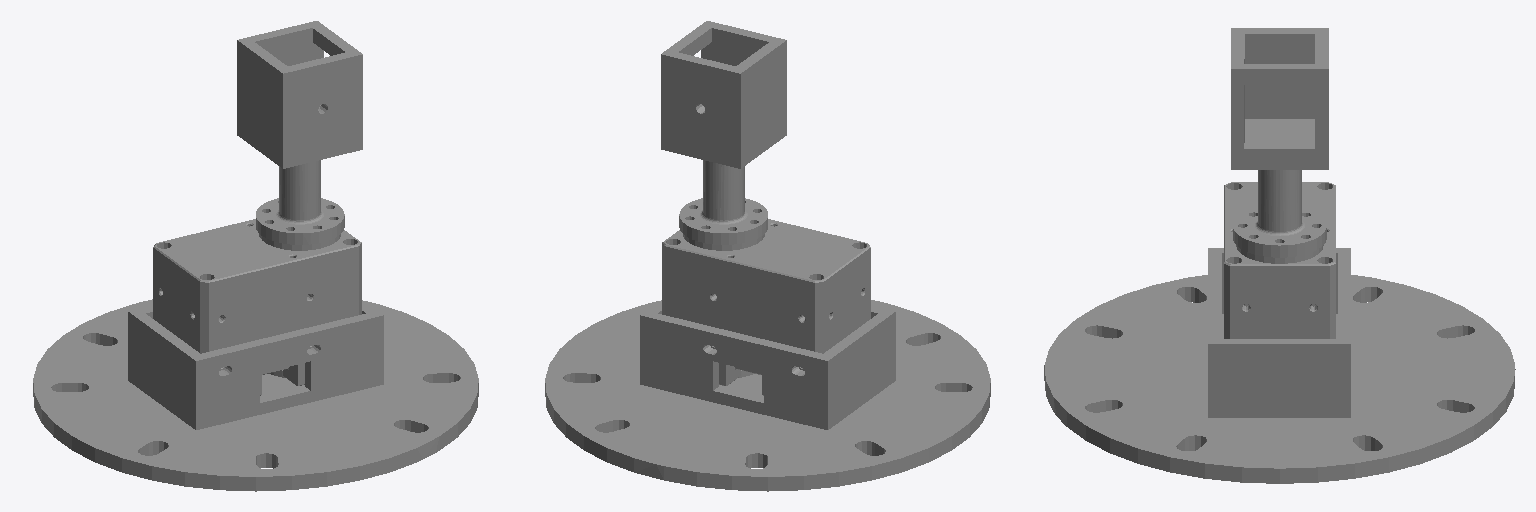
URDF robot description (540_base):
<?xml version="1.0" encoding="utf-8"?>
<!-- This URDF was automatically created by SolidWorks to URDF Exporter! Originally created by [author] ([email redacted]) 
     Commit Version: 1.6.0-4-g7f85cfe  Build Version: 1.6.7995.38578
     For more information, please see http://wiki.ros.org/sw_urdf_exporter -->
<robot
  name="540_base">
  <link
    name="base_link">
    <inertial>
      <origin
        xyz="0.000309866219877738 -1.42727209052575E-10 0.017628309391527"
        rpy="0 0 0" />
      <mass
        value="0.182418164745937" />
      <inertia
        ixx="0.000120490016488346"
        ixy="-5.92636030410217E-14"
        ixz="-1.49319277186411E-07"
        iyy="0.000145009530309103"
        iyz="-4.24186454602543E-13"
        izz="0.000228954451007768" />
    </inertial>
    <visual>
      <origin
        xyz="0 0 0"
        rpy="0 0 0" />
      <geometry>
        <mesh
          filename="package://540_base/meshes/base_link.STL" />
      </geometry>
      <material
        name="">
        <color
          rgba="0.627450980392157 0.627450980392157 0.627450980392157 1" />
      </material>
    </visual>
    <collision>
      <origin
        xyz="0 0 0"
        rpy="0 0 0" />
      <geometry>
        <mesh
          filename="package://540_base/meshes/base_link.STL" />
      </geometry>
    </collision>
  </link>
  <link
    name="joint1">
    <inertial>
      <origin
        xyz="-0.0013187 -0.00023587 0.034832"
        rpy="0 0 0" />
      <mass
        value="0.016459" />
      <inertia
        ixx="6.2604E-06"
        ixy="3.9963E-08"
        ixz="2.0986E-07"
        iyy="6.0441E-06"
        iyz="3.7529E-08"
        izz="2.8451E-06" />
    </inertial>
    <visual>
      <origin
        xyz="0 0 0"
        rpy="0 0 0" />
      <geometry>
        <mesh
          filename="package://540_base/meshes/joint1.STL" />
      </geometry>
      <material
        name="">
        <color
          rgba="0.62745 0.62745 0.62745 1" />
      </material>
    </visual>
    <collision>
      <origin
        xyz="0 0 0"
        rpy="0 0 0" />
      <geometry>
        <mesh
          filename="package://540_base/meshes/joint1.STL" />
      </geometry>
    </collision>
  </link>
  <joint
    name="joint1"
    type="continuous">
    <origin
      xyz="0.016 0 0.0575"
      rpy="0 0 -0.17953295" />
    <parent
      link="base_link" />
    <child
      link="joint1" />
    <axis
      xyz="0 0 1" />
  </joint>
</robot>

--- Facts derived from the render (not from the file) ---
3 views of the same robot in one strip: view 1: azimuth 30°, elevation 25°; view 2: azimuth 150°, elevation 25°; view 3: azimuth 270°, elevation 25° (orthographic).
Robot: 540_base — 2 links, 1 joints (1 continuous); root link base_link; default pose: every joint at zero.
Links seen in each view (by area): view 1: base_link, joint1; view 2: base_link, joint1; view 3: base_link, joint1.
Boxes of the visible links, x1,y1,x2,y2 form: base_link: (33, 219, 478, 491); joint1: (237, 21, 362, 244); base_link: (545, 219, 990, 491); joint1: (661, 21, 786, 244); base_link: (1044, 182, 1515, 483); joint1: (1231, 28, 1328, 257).
Bounding box of the posed robot: 0.1398 × 0.1399 × 0.1175 m (x, y, z).
Meshes: 2 distinct files referenced, 2 mesh visuals loaded (2 binary STL).
